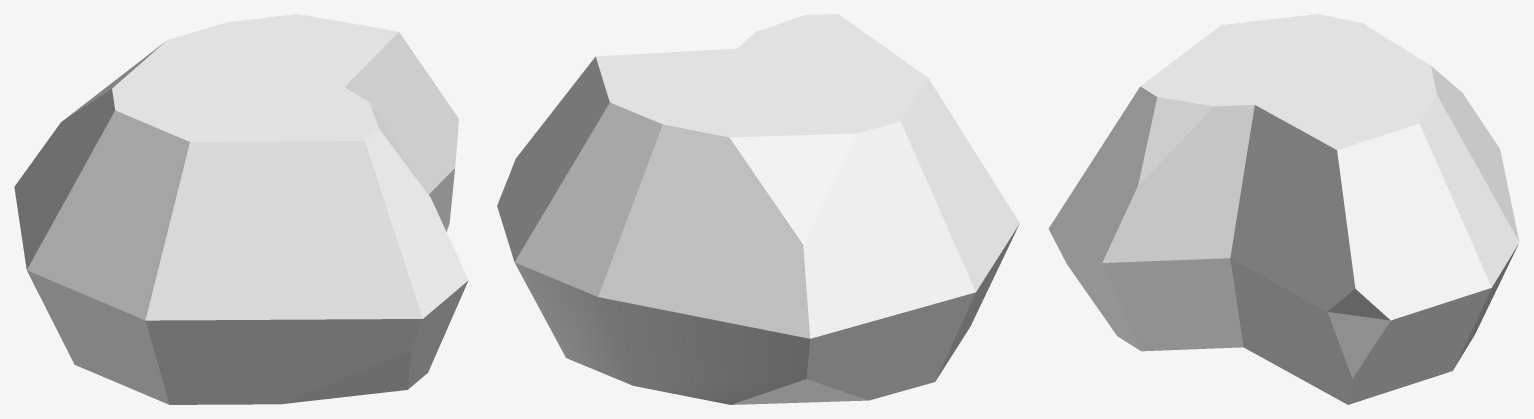
File: asteroid9.glb
The picture shows the model from 3 angles, left to right: view 1: azimuth 30°, elevation 25°; view 2: azimuth 150°, elevation 25°; view 3: azimuth 270°, elevation 25°; orthographic projection. The views are drawn at different scales.
Visible parts, largest first — view 1: mergedBlocks(Clone); view 2: mergedBlocks(Clone); view 3: mergedBlocks(Clone).
Boxes of the visible parts, left/top/right/bottom form: mergedBlocks(Clone): left=14, top=14, right=468, bottom=404; mergedBlocks(Clone): left=497, top=14, right=1019, bottom=404; mergedBlocks(Clone): left=1048, top=14, right=1519, bottom=404.
Bounding box in the file's own units: 1.07 × 0.5683 × 1.03.
Materials: 1 (1 with a texture image).
